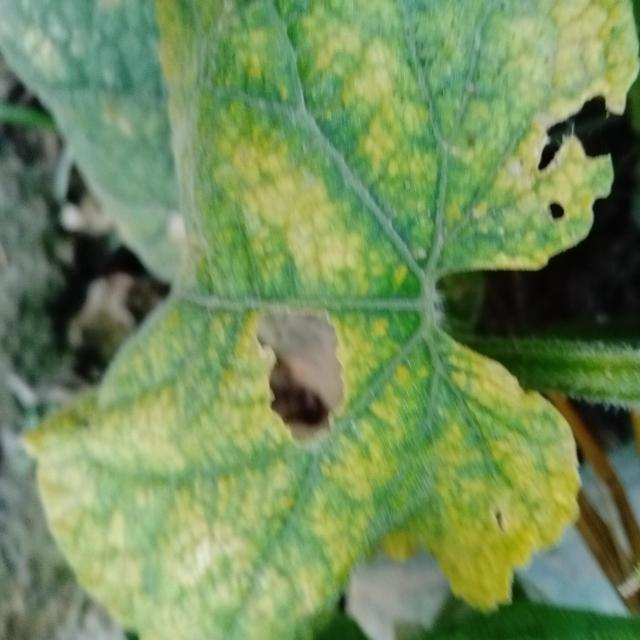cucumber_anthracnose: (46, 6, 636, 617)
